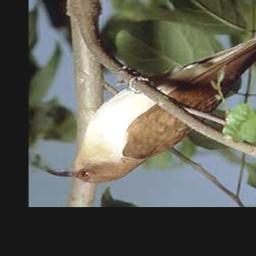Cuckoo: (44, 12, 256, 186)
